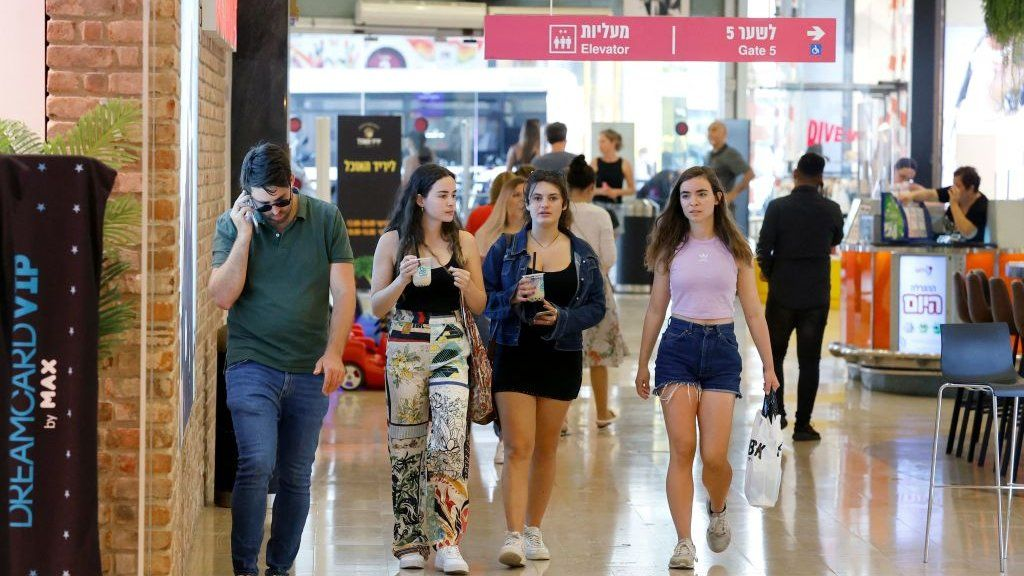without_mask: (252, 183, 298, 223), (677, 183, 712, 223), (528, 188, 560, 227), (431, 183, 458, 226)
